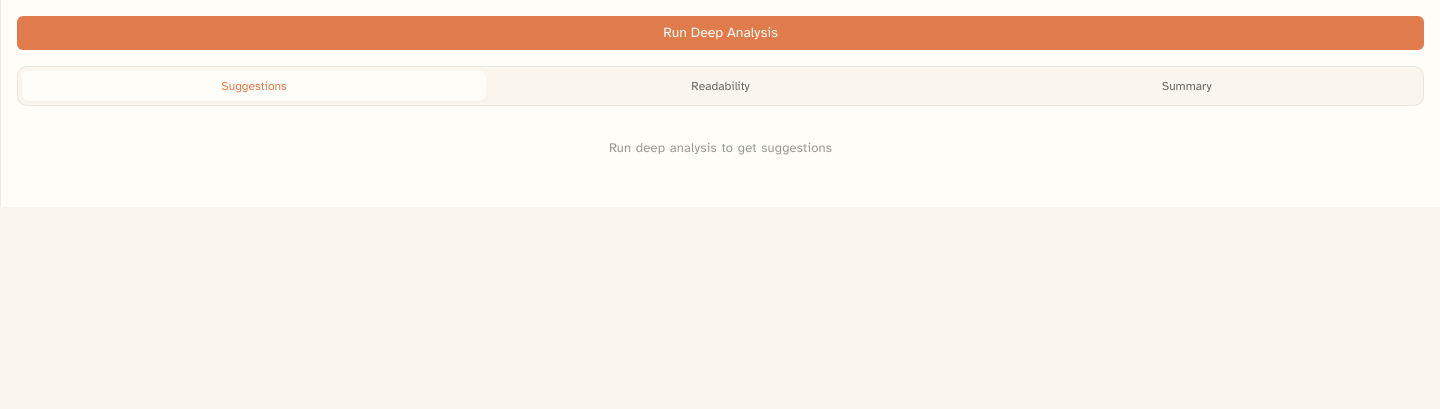
Scenario: PolishPanel › clicking "Summary" tab shows session summary content
Click the button "Summary": [1187, 86] box [955,71,1419,101]
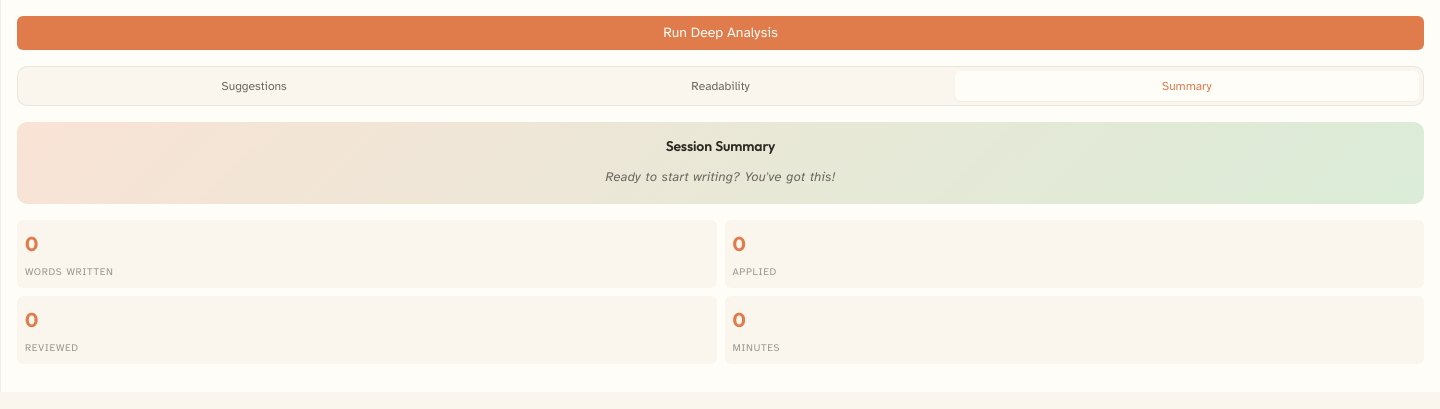
Result: the heading "Session Summary" is shown at [666,137,775,155]
